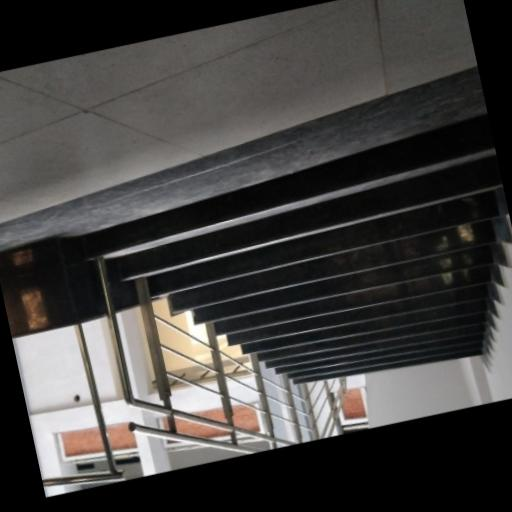stairs: (84, 115, 502, 381)
